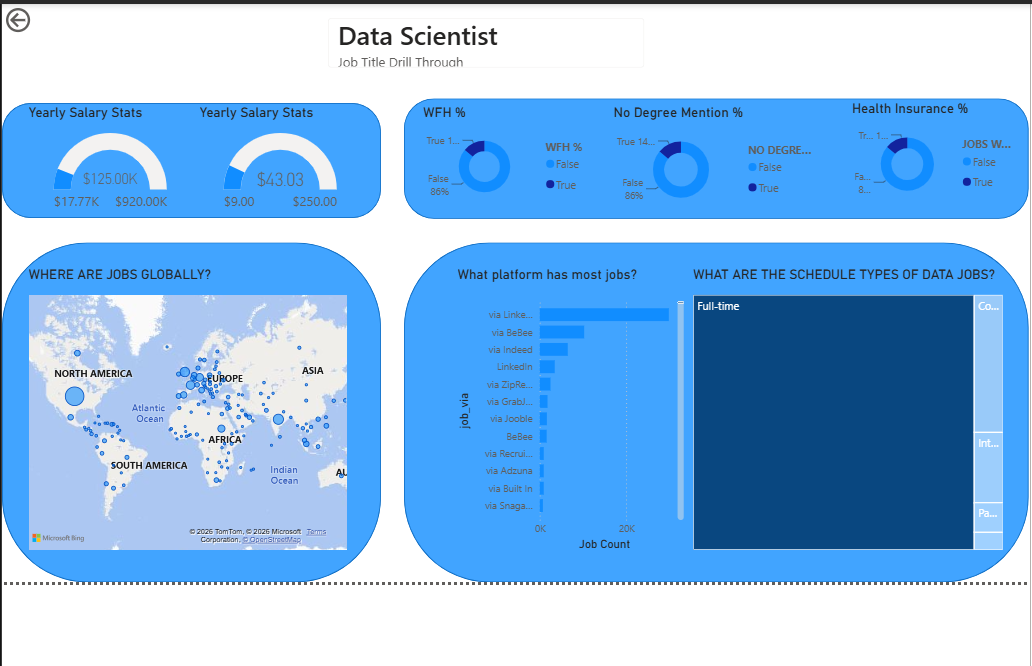

The page's visual inventory and layout, read from the dashboard file:
{"tool":"powerbi","page":{"name":"Job Title Drill Through","canvas":[1280,720],"ordinal":1},"visuals":[{"type":"group","id":"g1","title":"Background","box":[0,117.2,1278.9,602],"z":0},{"type":"shape","box":[0,123.7,471.9,143.2],"z":0,"group":"g1"},{"type":"cardVisual","fields":{"Data":["Min(job_postings_flat.job_title_short)1"]},"box":[388.1,0,428.6,96.4],"z":1000},{"type":"shape","box":[501.2,296.2,777.8,423.1],"z":1000,"group":"g1"},{"type":"actionButton","box":[0,0,100,40],"z":2000},{"type":"shape","box":[0,296.2,471.9,423.1],"z":2000,"group":"g1"},{"type":"shape","box":[501.2,117.2,777.8,149.7],"z":3000,"group":"g1"},{"type":"gauge","title":"Yearly Salary Stats","fields":{"Y":["Median(job_postings_flat.salary_year_avg)"],"MinValue":["Min(job_postings_flat.salary_year_avg)1"],"MaxValue":["Max(job_postings_flat.salary_year_avg)2"]},"box":[27.9,124.3,213.1,142],"z":3000},{"type":"gauge","title":"Yearly Salary Stats","fields":{"Y":["Median(job_postings_flat.salary_hour_avg)"],"MinValue":["Min(job_postings_flat.salary_hour_avg)1"],"MaxValue":["Max(job_postings_flat.salary_hour_avg)2"]},"box":[241,124.3,210.5,142],"z":4000},{"type":"donutChart","title":"WFH %","fields":{"Category":["job_postings_flat.job_work_from_home"],"Y":["CountNonNull(job_postings_flat.job_work_from_home)"]},"box":[520,124.3,228.3,124.3],"z":5000},{"type":"donutChart","title":"No Degree Mention %","fields":{"Category":["job_postings_flat.job_work_from_home"],"Y":["CountNonNull(job_postings_flat.job_no_degree_mention)"]},"box":[755.8,124.3,266.3,131.9],"z":6000},{"type":"donutChart","title":"Health Insurance %","fields":{"Category":["job_postings_flat.job_work_from_home"],"Y":["CountNonNull(job_postings_flat.job_health_insurance)"]},"box":[1052.6,119.2,213.1,129.4],"z":7000},{"type":"map","title":"WHERE ARE JOBS GLOBALLY?","fields":{"Category":["job_postings_flat.job_country"],"Size":["CountNonNull(job_postings_flat.job_title_short)"]},"box":[27.9,327.2,405.8,357.6],"z":8000},{"type":"treemap","title":"WHAT ARE THE SCHEDULE TYPES OF DATA JOBS?","fields":{"Group":["job_postings_flat.job_schedule_type"],"Values":["CountNonNull(job_postings_flat.job_schedule_type)"]},"box":[854.8,327.2,395.7,357.6],"z":9000},{"type":"barChart","title":"What platform has most jobs?","fields":{"Category":["job_postings_flat.job_via"],"Y":["CountNonNull(job_postings_flat.job_via)"]},"box":[563.1,327.2,291.7,357.6],"z":10000}]}

Visuals, with their boxes on the page's 1280x720 design canvas (x1, y1, x2, y2). These are canvas units, not pixel positions in the 1032x666 screenshot, which may show the page scaled, cropped or inside an application window:
"Background" group: crop(0, 117, 1279, 719)
shape: crop(0, 124, 472, 267)
cardVisual - Min(job_postings_flat.job_title_short)1: crop(388, 0, 817, 96)
shape: crop(501, 296, 1279, 719)
actionButton: crop(0, 0, 100, 40)
shape: crop(0, 296, 472, 719)
shape: crop(501, 117, 1279, 267)
"Yearly Salary Stats" gauge: crop(28, 124, 241, 266)
"Yearly Salary Stats" gauge: crop(241, 124, 452, 266)
"WFH %" donutChart: crop(520, 124, 748, 249)
"No Degree Mention %" donutChart: crop(756, 124, 1022, 256)
"Health Insurance %" donutChart: crop(1053, 119, 1266, 249)
"WHERE ARE JOBS GLOBALLY?" map: crop(28, 327, 434, 685)
"WHAT ARE THE SCHEDULE TYPES OF DATA JOBS?" treemap: crop(855, 327, 1250, 685)
"What platform has most jobs?" barChart: crop(563, 327, 855, 685)
